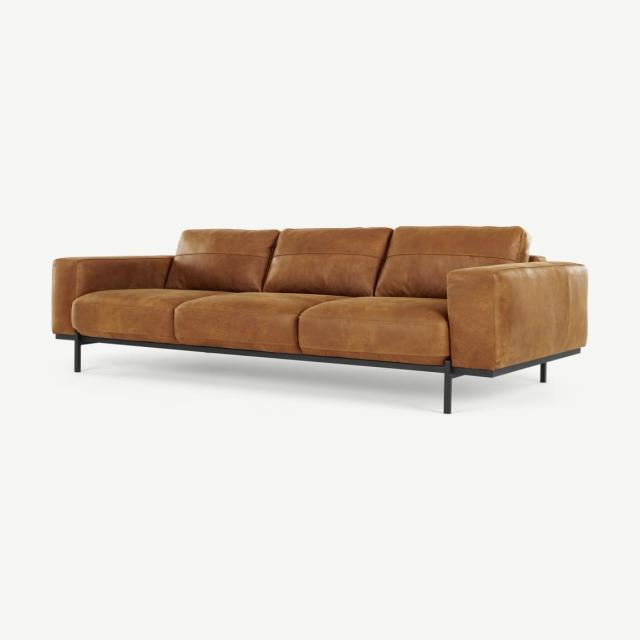back_cushion: (166, 227, 528, 297)
left_arm: (447, 262, 587, 371)
legs: (443, 363, 466, 414), (74, 331, 84, 372), (539, 362, 547, 383)
right_arm: (52, 256, 172, 334)
seat_cushion: (72, 289, 449, 365)
stallion-sofa: (0, 0, 639, 639)
